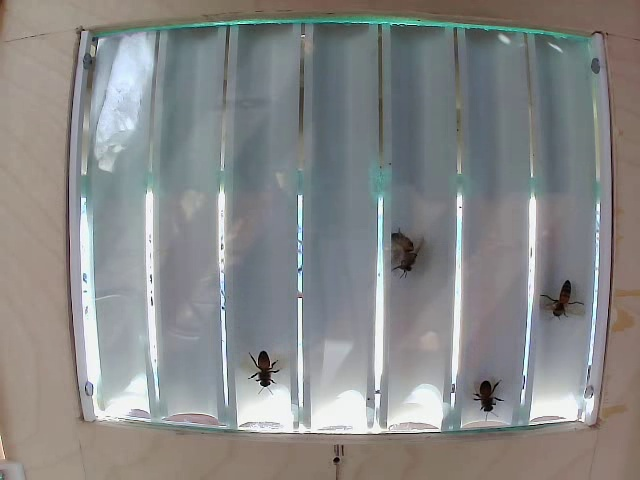bee: (387, 226, 424, 274), (547, 275, 577, 324), (460, 378, 495, 411), (241, 349, 277, 377)
